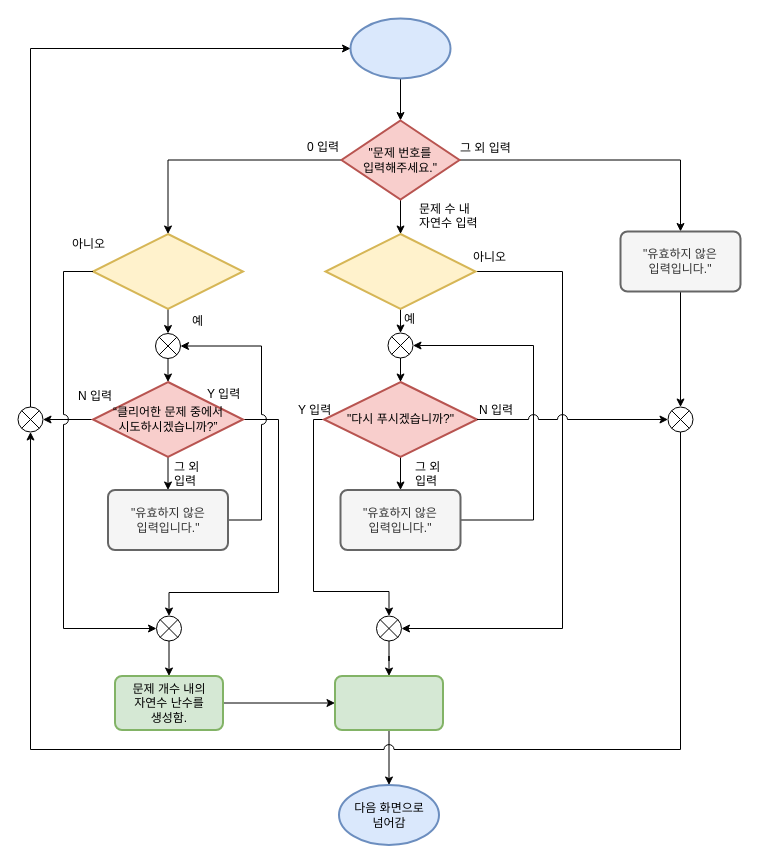
Some shapes in this 758 by 863 pixel diagram are drawn without their labels. Here are the shapes that lost their labels. From the top down, the box of each, then its label:
(349, 17, 451, 79): 문제 번호 입력 화면
(92, 232, 244, 310): 문제를 모두 풀었는가?
(324, 232, 476, 310): 그 번호가 이미 푼 문제의 번호인가?
(334, 674, 444, 730): 그 값을 출력할 문제 번호로 설정
